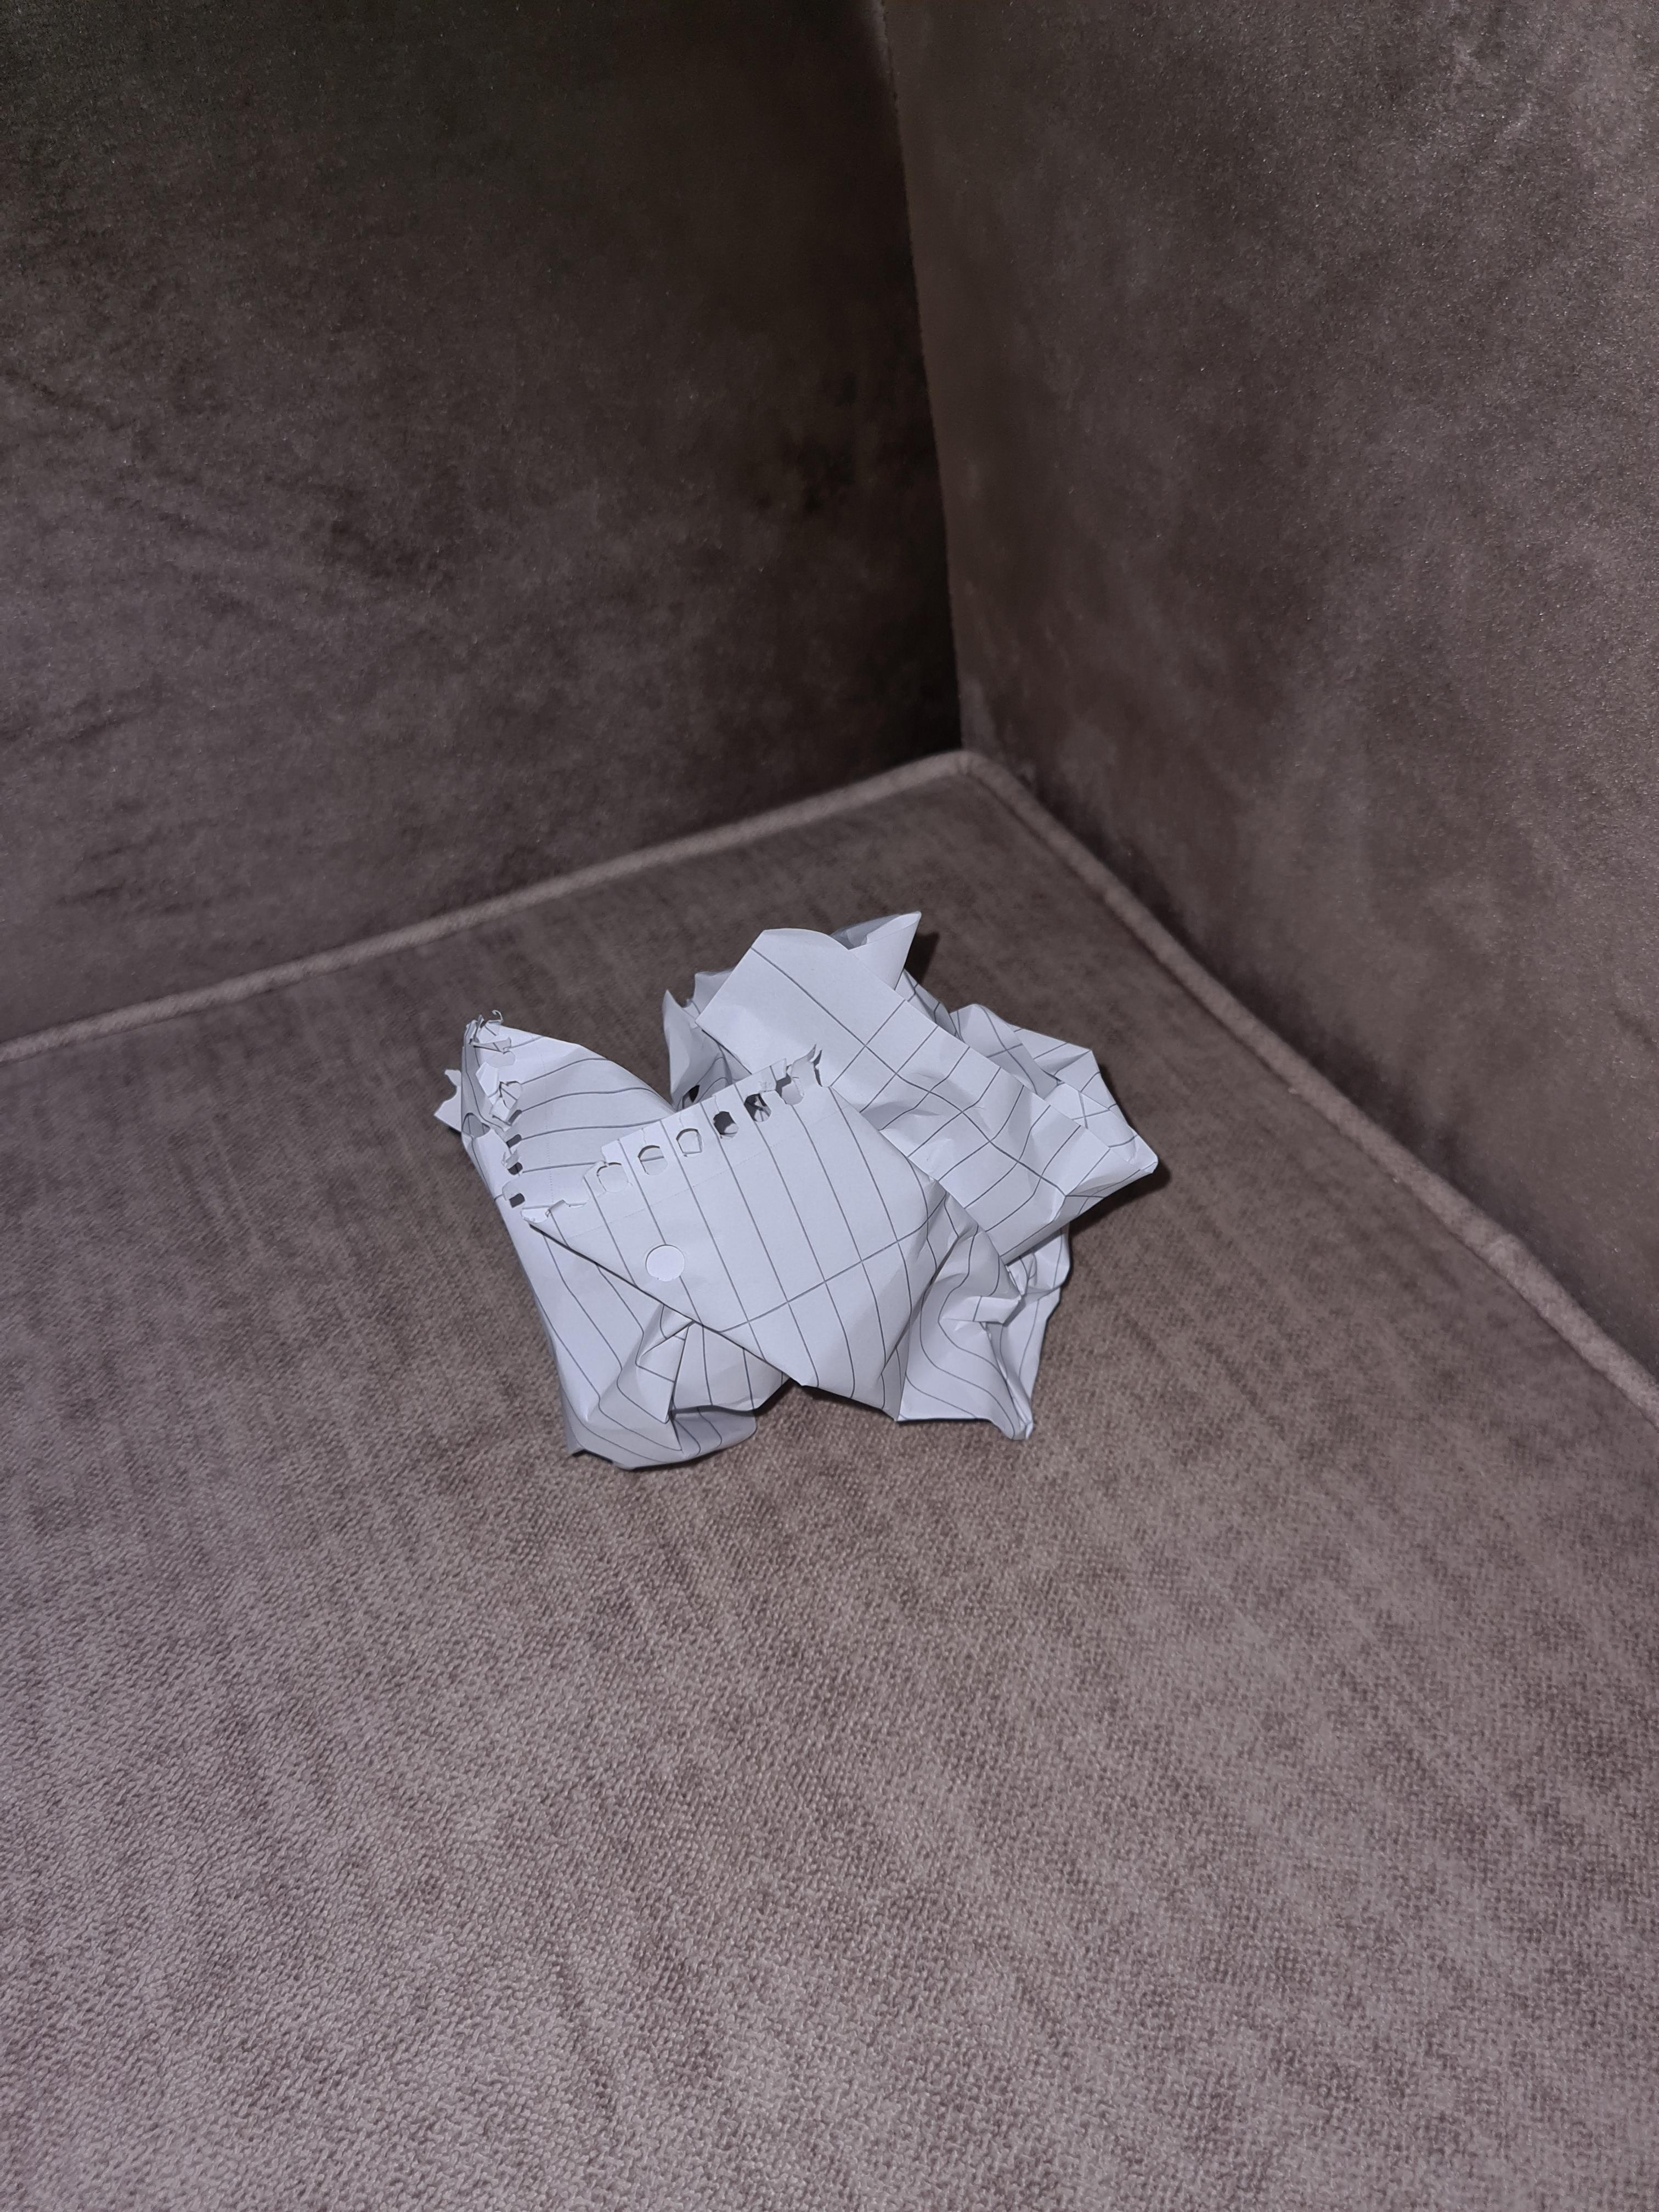Paper: (462, 906, 1165, 1461)
